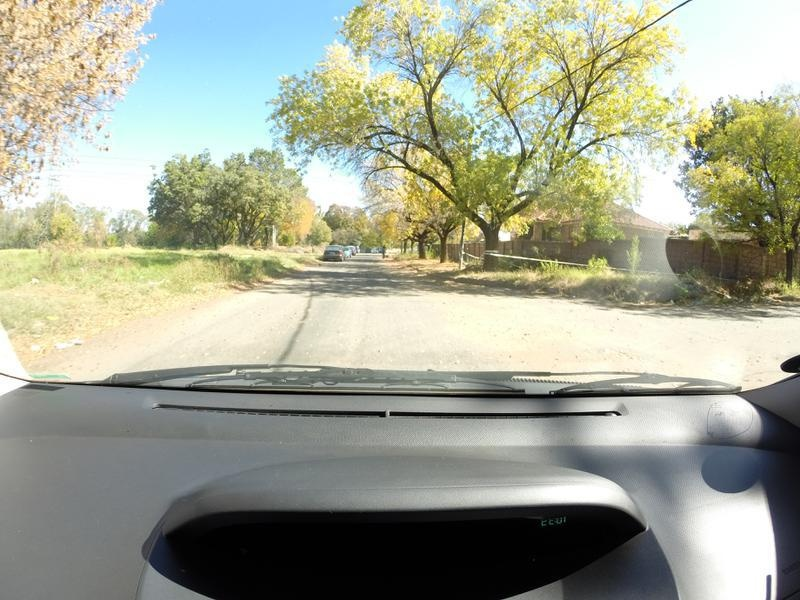pothole: (560, 349, 633, 365)
